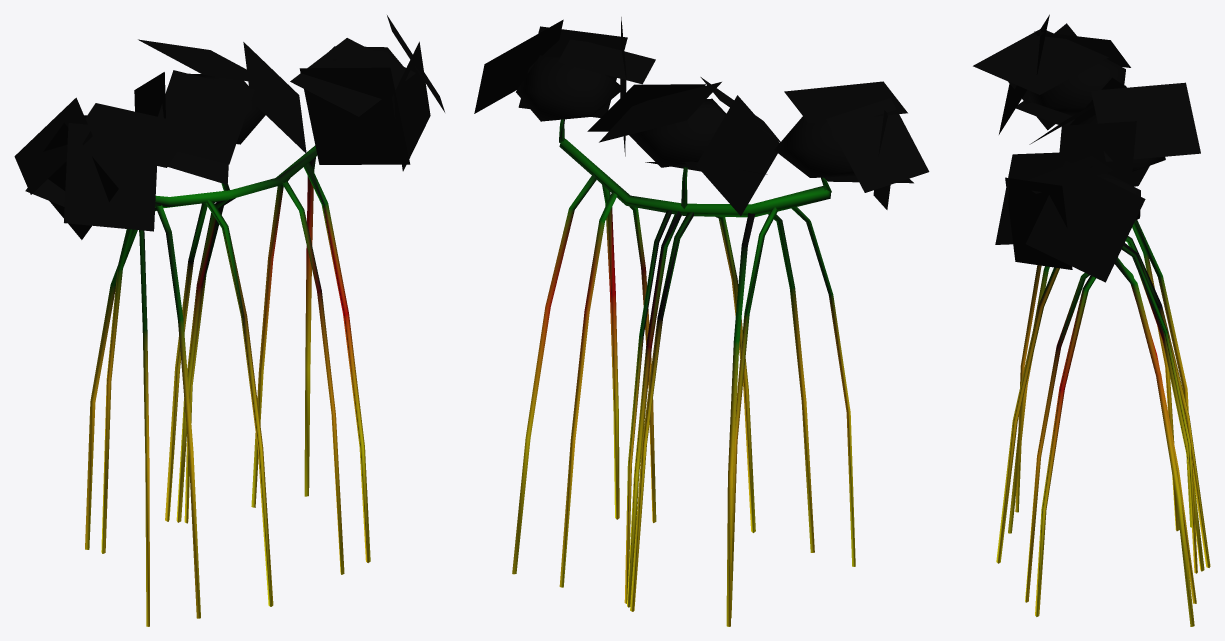
Rendered from mangrove_roots_b_lo.glb.
The picture shows the model from 3 angles, left to right: view 1: azimuth 30°, elevation 25°; view 2: azimuth 150°, elevation 25°; view 3: azimuth 270°, elevation 25°; orthographic projection. The views are drawn at different scales.
Visible parts, largest first — view 1: mangrove_roots_b_lo; view 2: mangrove_roots_b_lo; view 3: mangrove_roots_b_lo.
Boxes of the visible parts, x1,y1,x2,y2 form: mangrove_roots_b_lo: (14,15,444,626); mangrove_roots_b_lo: (474,17,929,626); mangrove_roots_b_lo: (973,14,1210,626).
Size of the model in its own units: 5.95 by 6.66 by 3.03.
